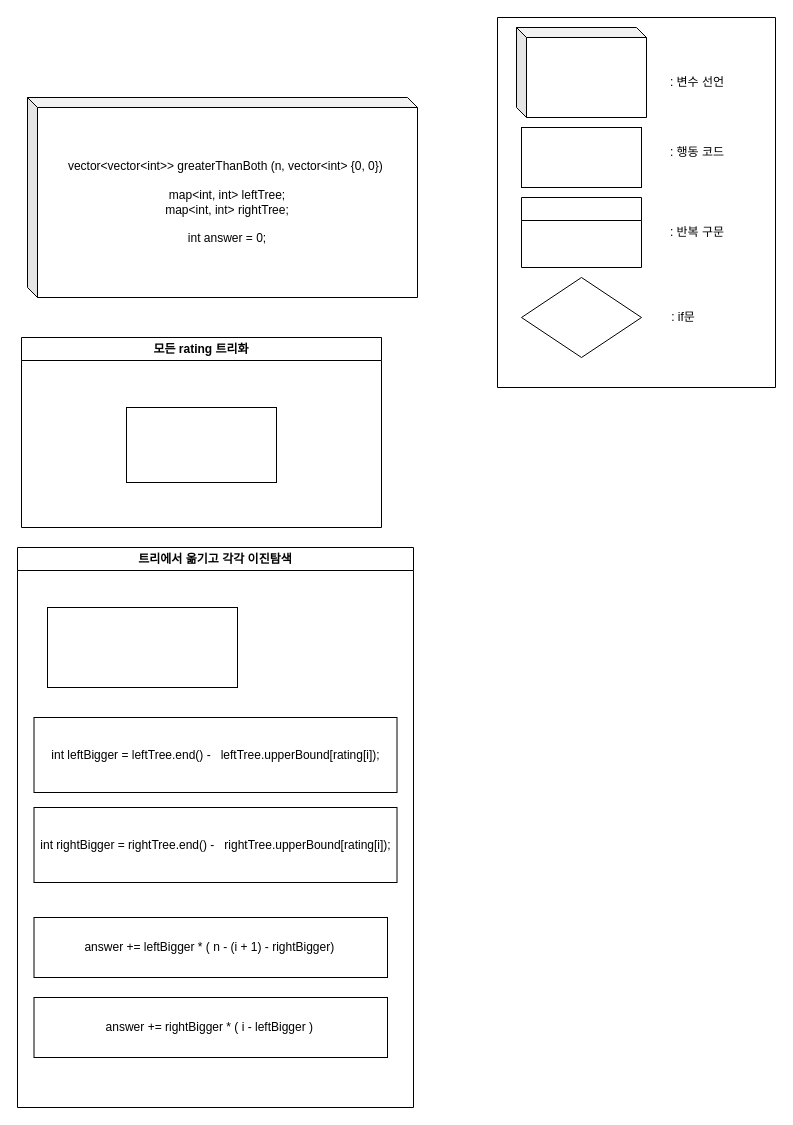
The diagram is 793 pixels wide and 1125 high, and some of its shapes have lost their labels. Each missing label, with the centre of its shape:
"leftTree.push(ratings[i]) rightTree.erase(ratings[i](" belongs at (142,647).
"~ 동안" belongs at (581,232).
"생략" belongs at (201,444).
